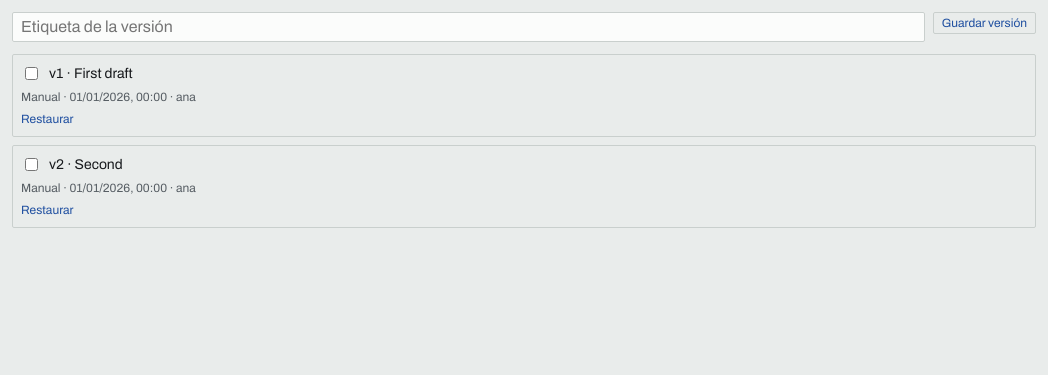
VersionsPanel › selecting two versions and comparing shows the diff
Check: the text "v1 · First draft" is shown, box [49,63,133,84]
Click the checkbox labelled "v1 · First draft": (32, 74) [25,67,38,80]
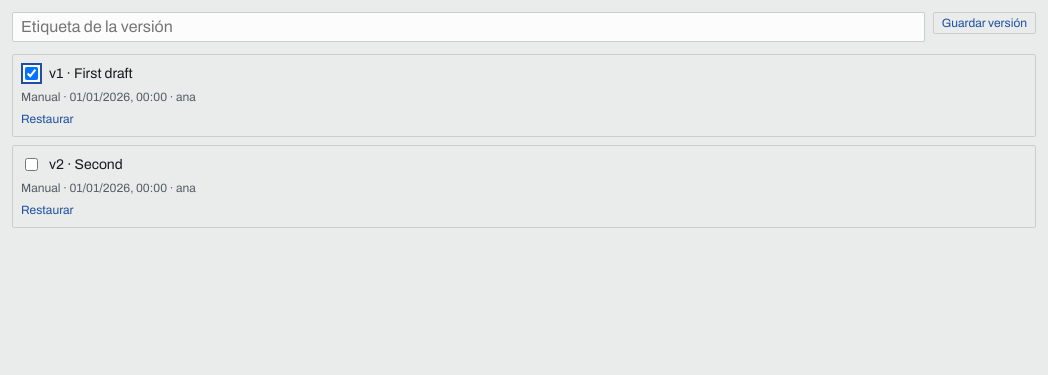
Click the checkbox labelled "v2 · Second": (32, 164) [25,158,38,171]
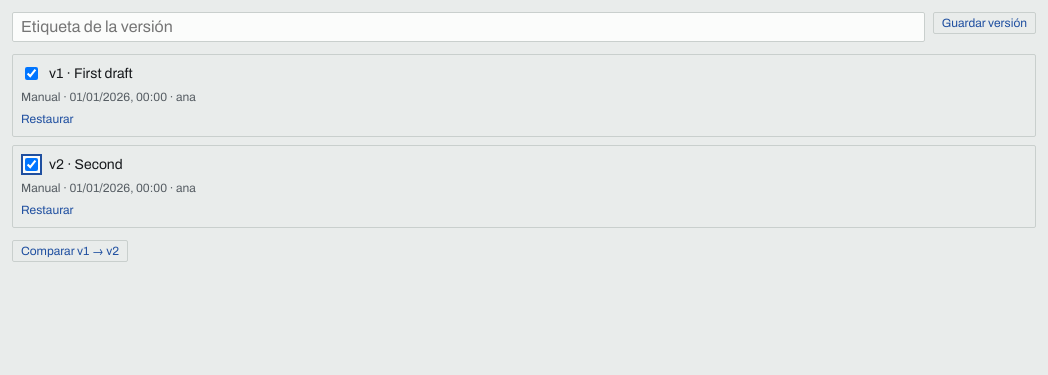
Click the button "Comparar v1 → v2": (70, 251) [12,240,128,262]
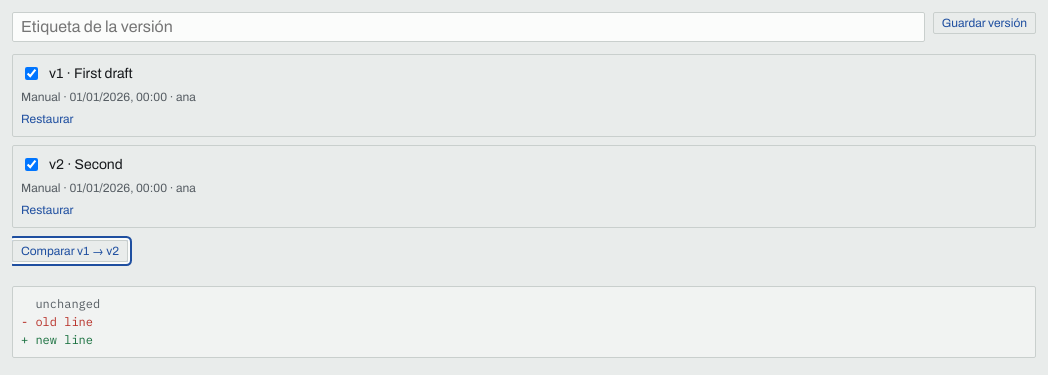
Check: the text "- old line" is shown, box [21,314,93,329]
Check: the text "+ new line" is shown, box [21,332,93,347]
